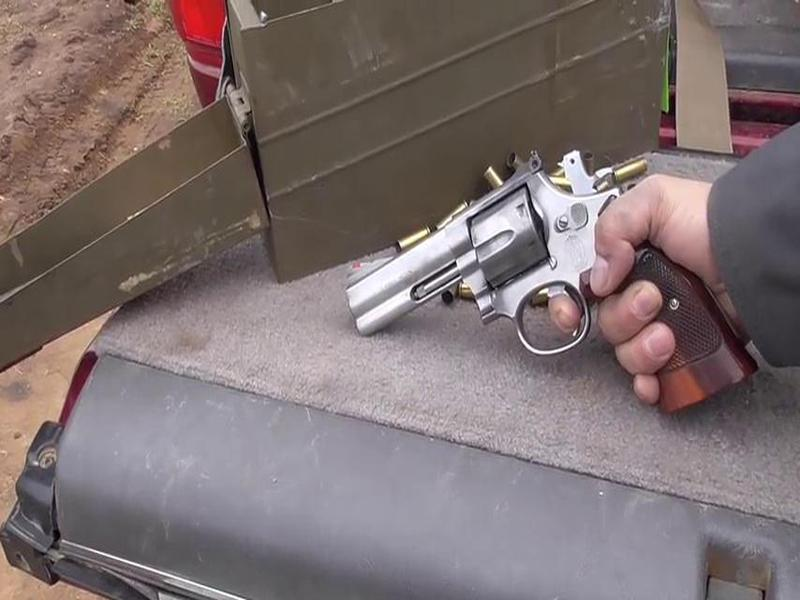Revolver: (340, 148, 664, 411)
